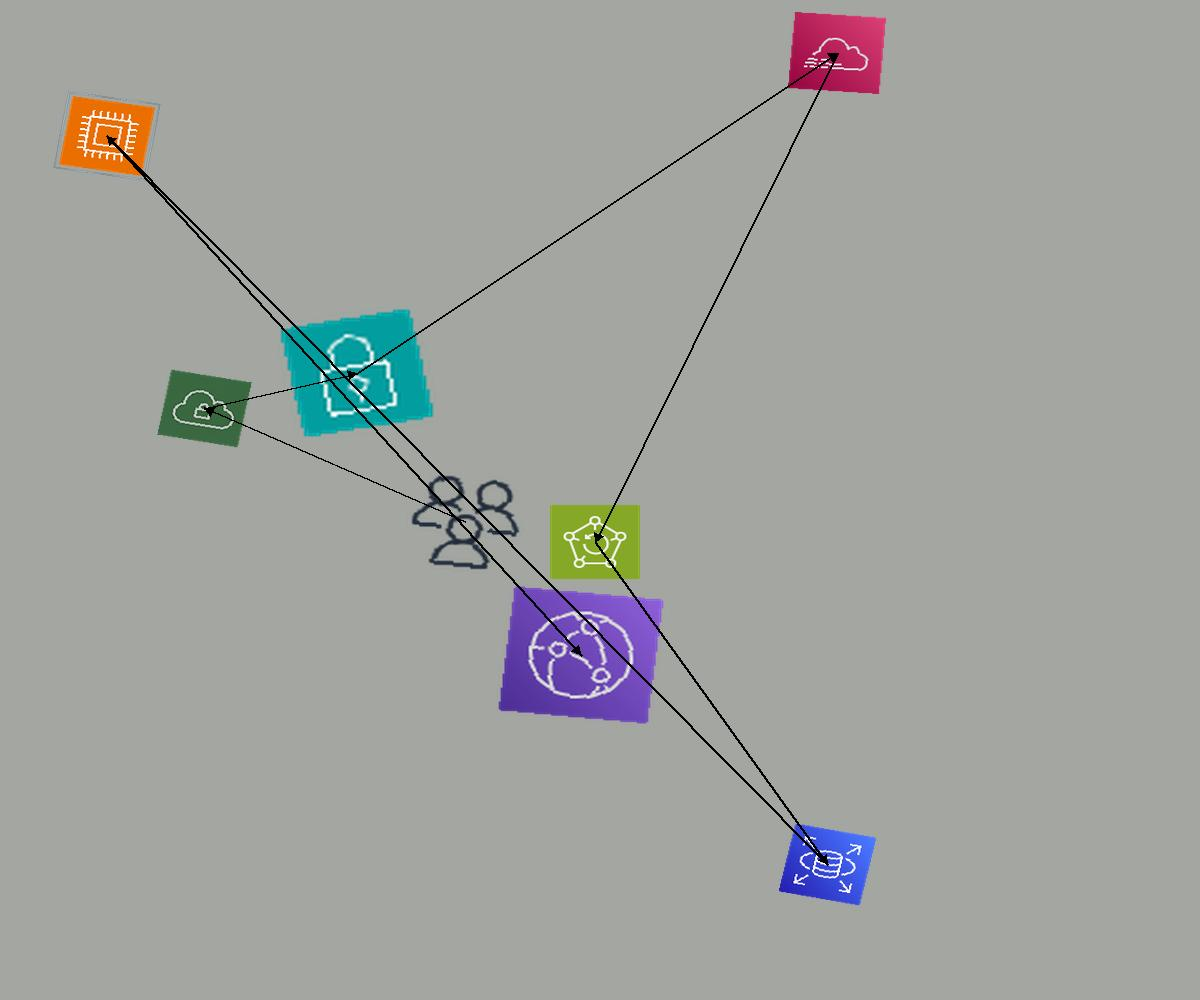AWS-Backup: (549, 504, 641, 580)
AWS-Category_Compute: (53, 91, 161, 181)
AWS-CloudFront: (497, 585, 665, 725)
AWS-CloudTrail: (788, 12, 886, 94)
AWS-Private-subnet: (278, 307, 436, 439)
AWS-Private_vpc: (157, 369, 252, 448)
AWS-RDS: (778, 823, 877, 906)
AWS-Res_Users: (400, 468, 531, 577)
